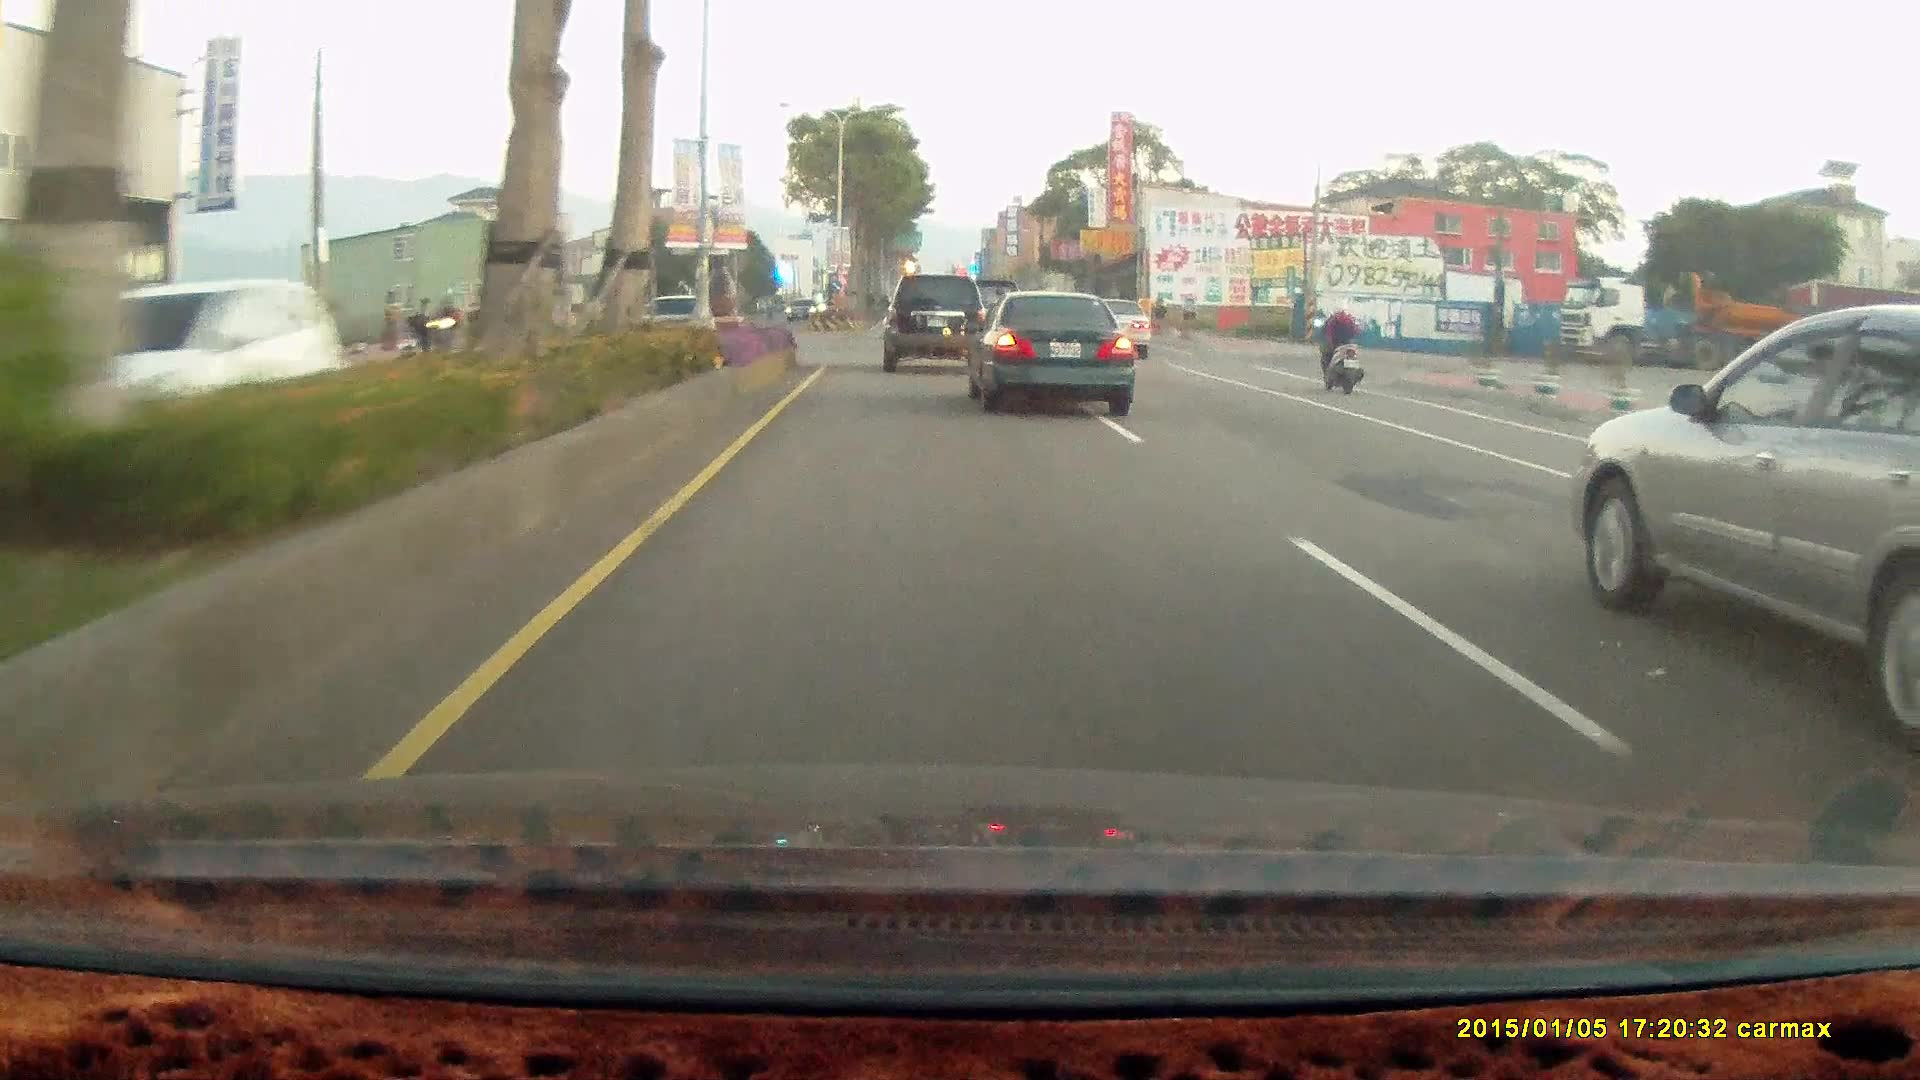pedestrian: (402, 311, 435, 357)
rider: (1307, 293, 1372, 400), (1310, 292, 1366, 388), (421, 295, 468, 368)
vehicle: (1571, 303, 1920, 741), (72, 277, 336, 466), (111, 277, 329, 465), (1556, 271, 1920, 371), (959, 288, 1130, 413), (971, 292, 1138, 413), (880, 274, 991, 374), (880, 273, 985, 374), (632, 293, 719, 354), (1076, 297, 1155, 362), (1075, 296, 1153, 360), (783, 298, 818, 321)
